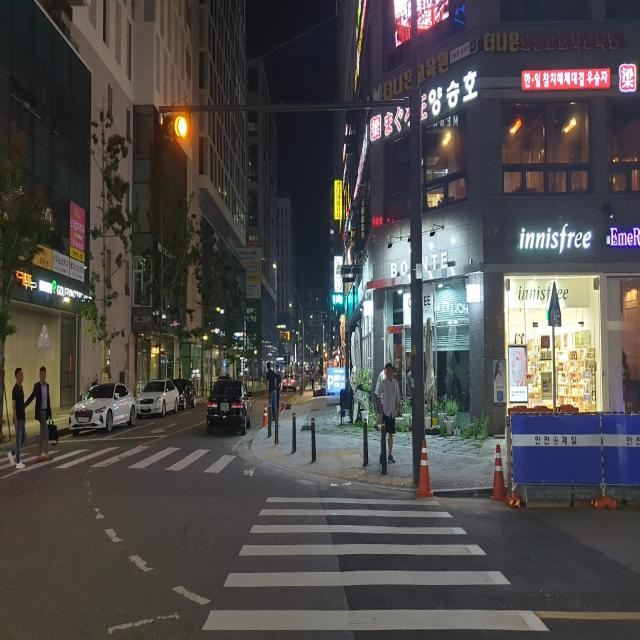횡단보도: (200, 493, 552, 636), (0, 429, 242, 483)
